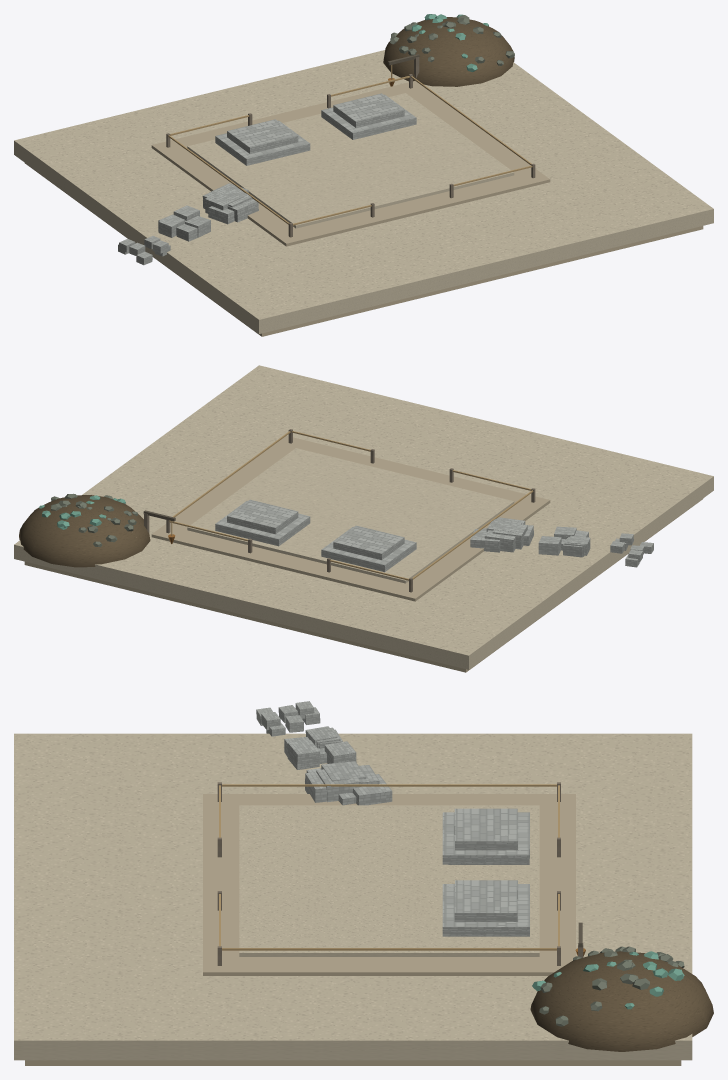
File: lin-3-site.glb
3 views of the same model, one above another, from view 1: azimuth 30°, elevation 25°; view 2: azimuth 150°, elevation 25°; view 3: azimuth 270°, elevation 25° (orthographic). The views are drawn at different scales.
Size of the model in its own units: 32.99 by 3.62 by 28.9.
12 materials, 8 textured.
